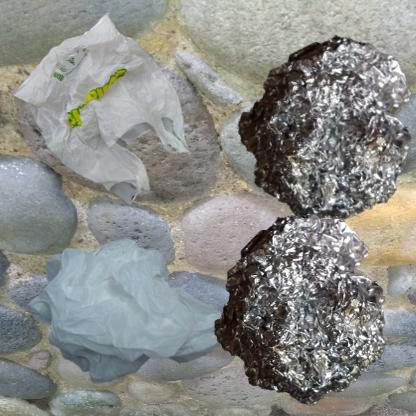aluminio: (213, 10, 416, 265), (213, 213, 386, 406)
bolsa: (10, 213, 272, 416), (10, 10, 194, 206)
